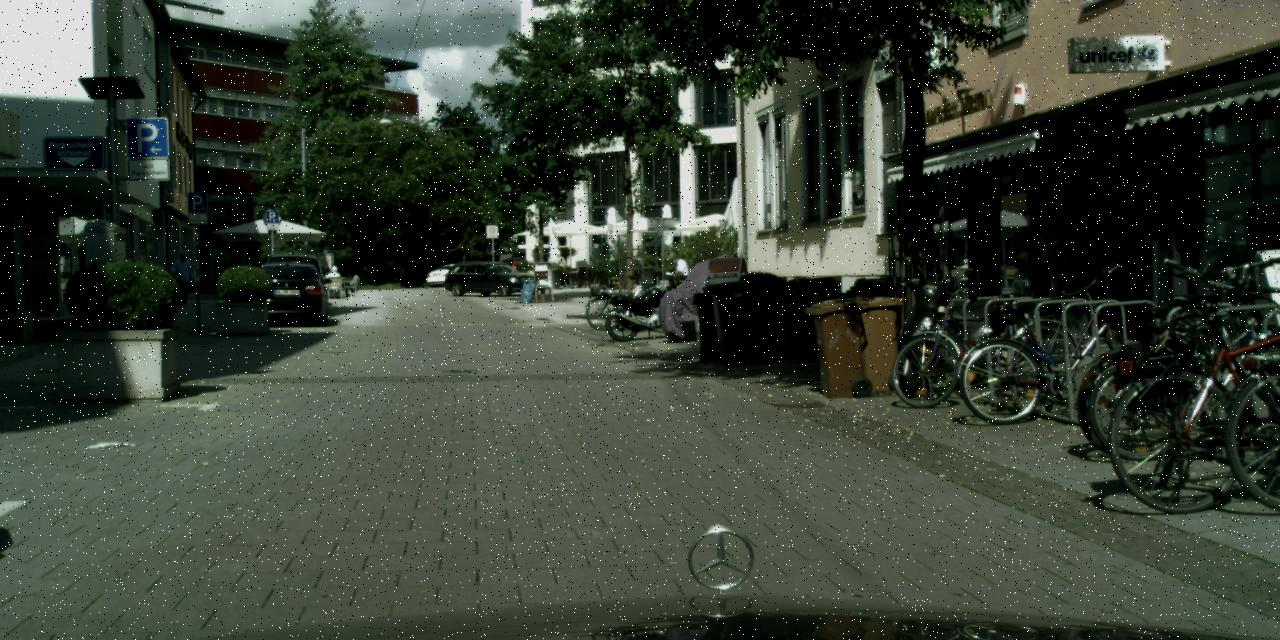ped: (172, 250, 193, 304)
